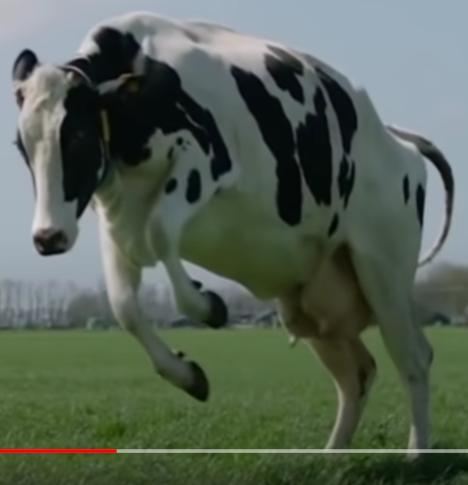cow: (12, 11, 454, 456)
